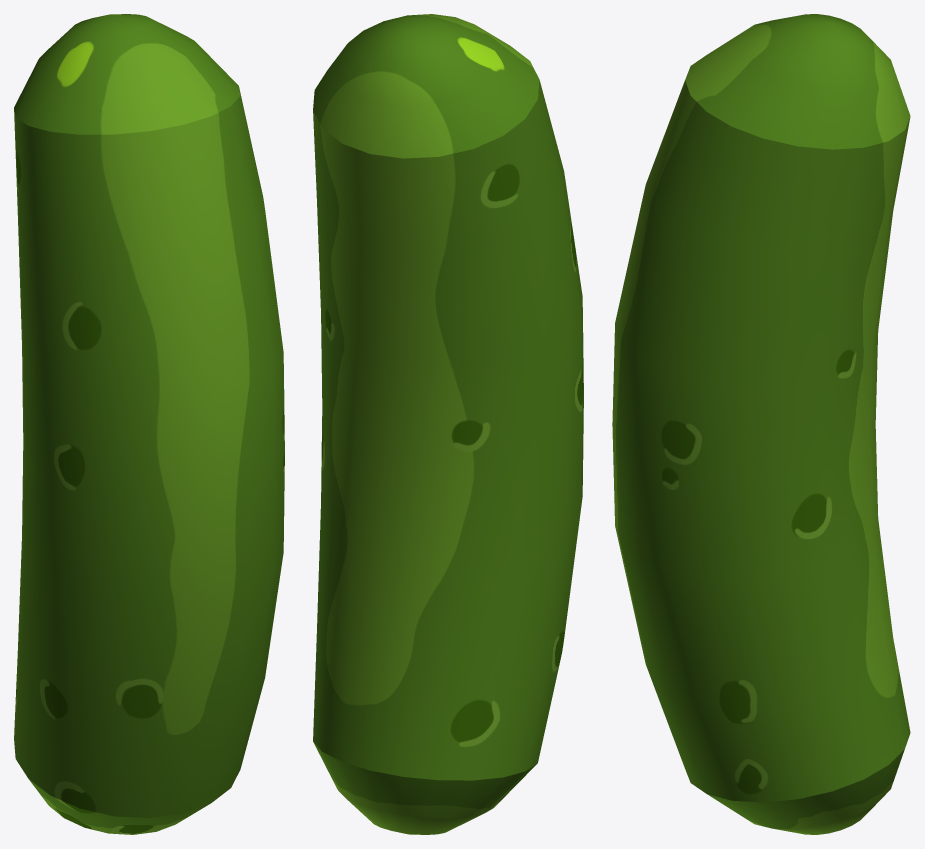
Rendered from pickleRick.fbx.
3 views of the same model, side by side, from view 1: azimuth 30°, elevation 25°; view 2: azimuth 150°, elevation 25°; view 3: azimuth 270°, elevation 25° (orthographic).
Visible parts, largest first — view 1: Pickle_Body; view 2: Pickle_Body; view 3: Pickle_Body.
Boxes of the visible parts, x1,y1,x2,y2 form: Pickle_Body: [14, 14, 284, 834]; Pickle_Body: [313, 14, 583, 834]; Pickle_Body: [612, 14, 910, 834].
Bounding box in the file's own units: 18.15 × 60.98 × 20.55.
Materials: 1 (1 with a texture image).
